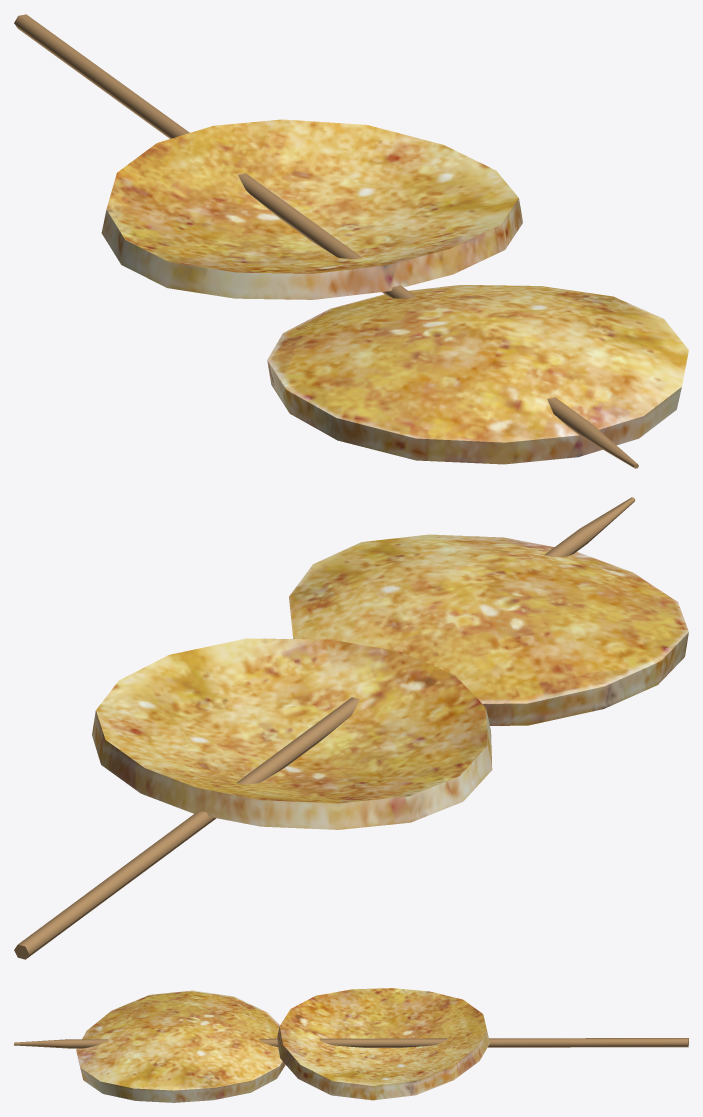
Rendered from PotatoSkewers.obj.
3 views of the same model, one above another, from view 1: azimuth 30°, elevation 25°; view 2: azimuth 150°, elevation 25°; view 3: azimuth 270°, elevation 25° (orthographic). The views are drawn at different scales.
Visible parts, largest first — view 1: tudoupian; view 2: tudoupian; view 3: tudoupian.
Part boxes in pixels (x1,y1,x2,y2): tudoupian: [14, 14, 688, 468]; tudoupian: [14, 497, 688, 959]; tudoupian: [14, 988, 688, 1102].
Size of the model in its own units: 1.06 by 0.1724 by 2.97.
